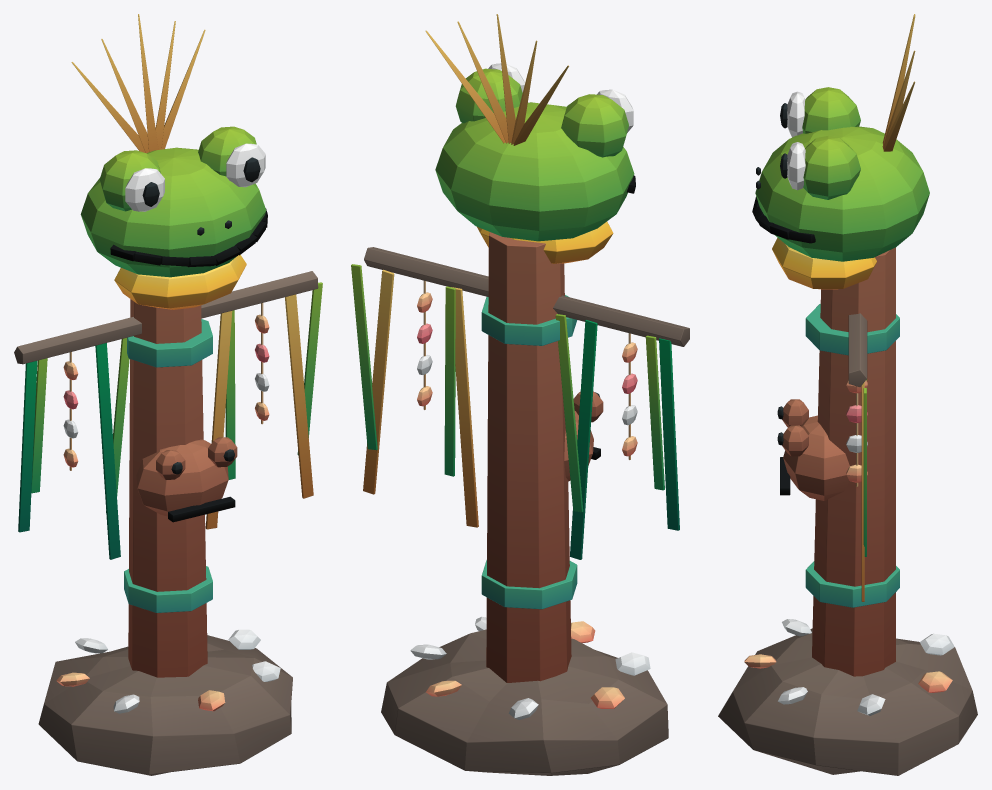
The model's file is pondkin_totem.glb.
3 renders of one model, left to right at view 1: azimuth 30°, elevation 25°; view 2: azimuth 150°, elevation 25°; view 3: azimuth 270°, elevation 25°, orthographic. The views are drawn at different scales.
Parts seen in each view (by area): view 1: pondkin_totem; view 2: pondkin_totem; view 3: pondkin_totem.
Part boxes in pixels (x1,y1,x2,y2): pondkin_totem: (14,14,322,775); pondkin_totem: (351,14,689,775); pondkin_totem: (718,14,977,775).
Bounding box in the file's own units: 1.77 × 3.9 × 1.26.
1 material, 1 textured.
